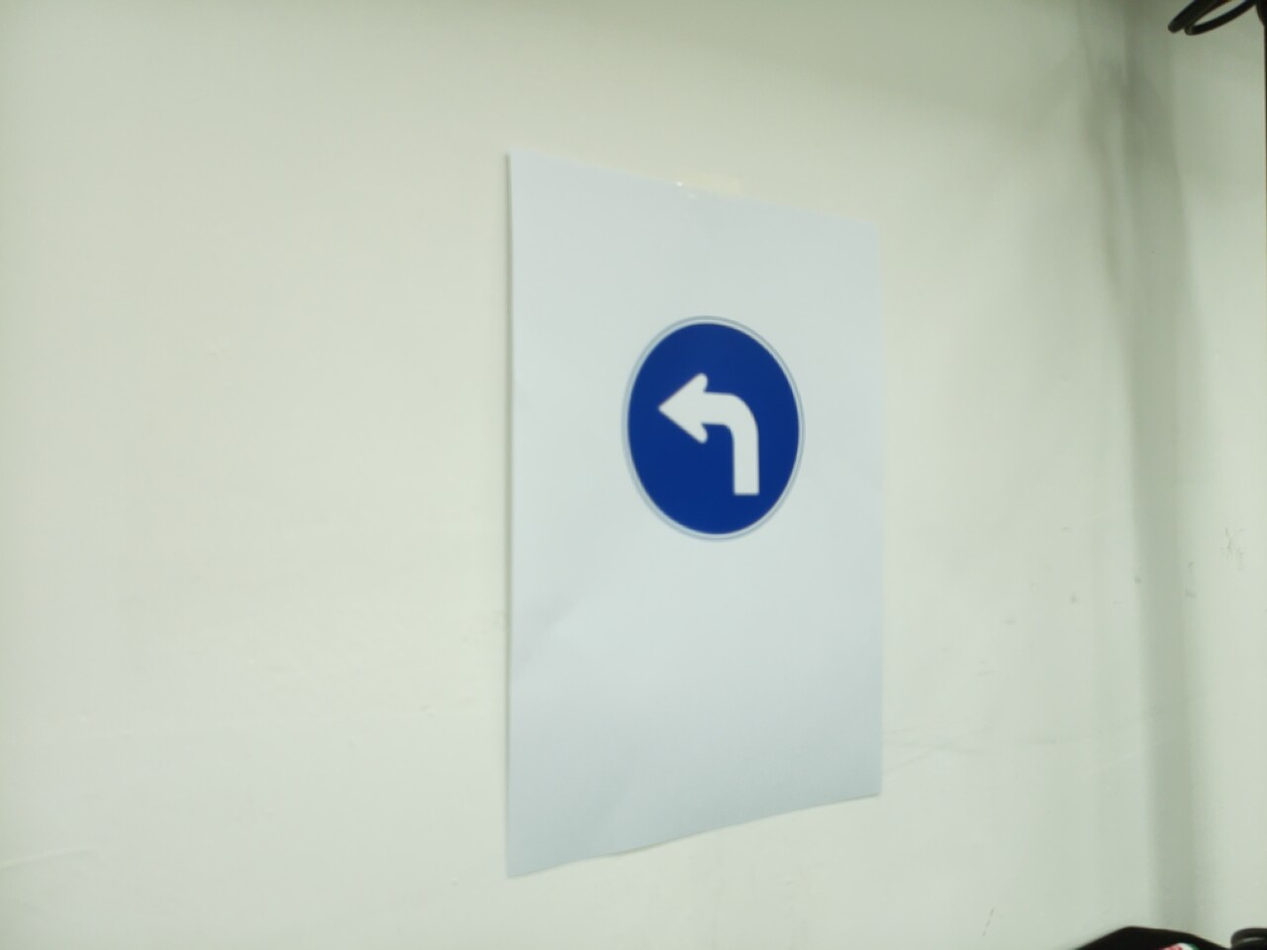left_turn: (621, 315, 806, 542)
